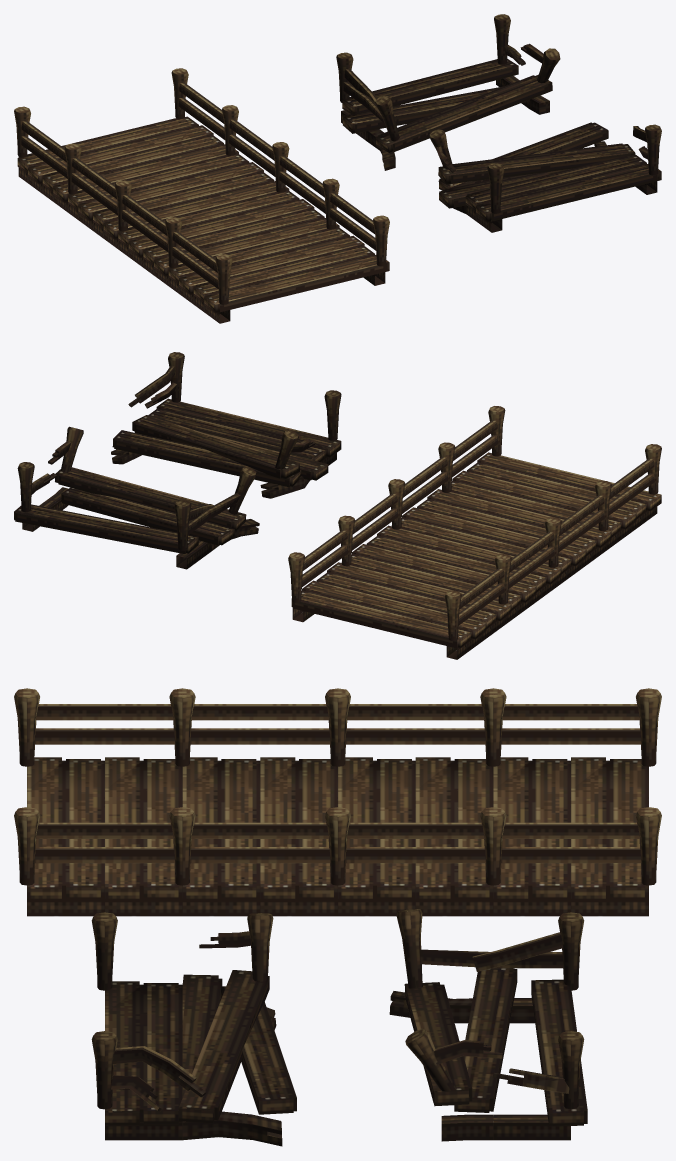
Rendered from EnvObjMD_Bridge_A.FBX.
3 views of the same model, one above another, from view 1: azimuth 30°, elevation 25°; view 2: azimuth 150°, elevation 25°; view 3: azimuth 270°, elevation 25° (orthographic). The views are drawn at different scales.
Parts seen in each view (by area): view 1: EnvObjMD_Bridge_A, EnvObjMD_Bridge_B; view 2: EnvObjMD_Bridge_A, EnvObjMD_Bridge_B; view 3: EnvObjMD_Bridge_A, EnvObjMD_Bridge_B.
Boxes of the visible parts, x1,y1,x2,y2 form: EnvObjMD_Bridge_A: (14,68,389,323); EnvObjMD_Bridge_B: (336,14,661,232); EnvObjMD_Bridge_A: (288,406,661,659); EnvObjMD_Bridge_B: (14,352,341,569); EnvObjMD_Bridge_A: (14,688,661,916); EnvObjMD_Bridge_B: (91,909,587,1146).
Bounding box in the file's own units: 1101 × 158 × 834.
2 materials, 2 textured.
